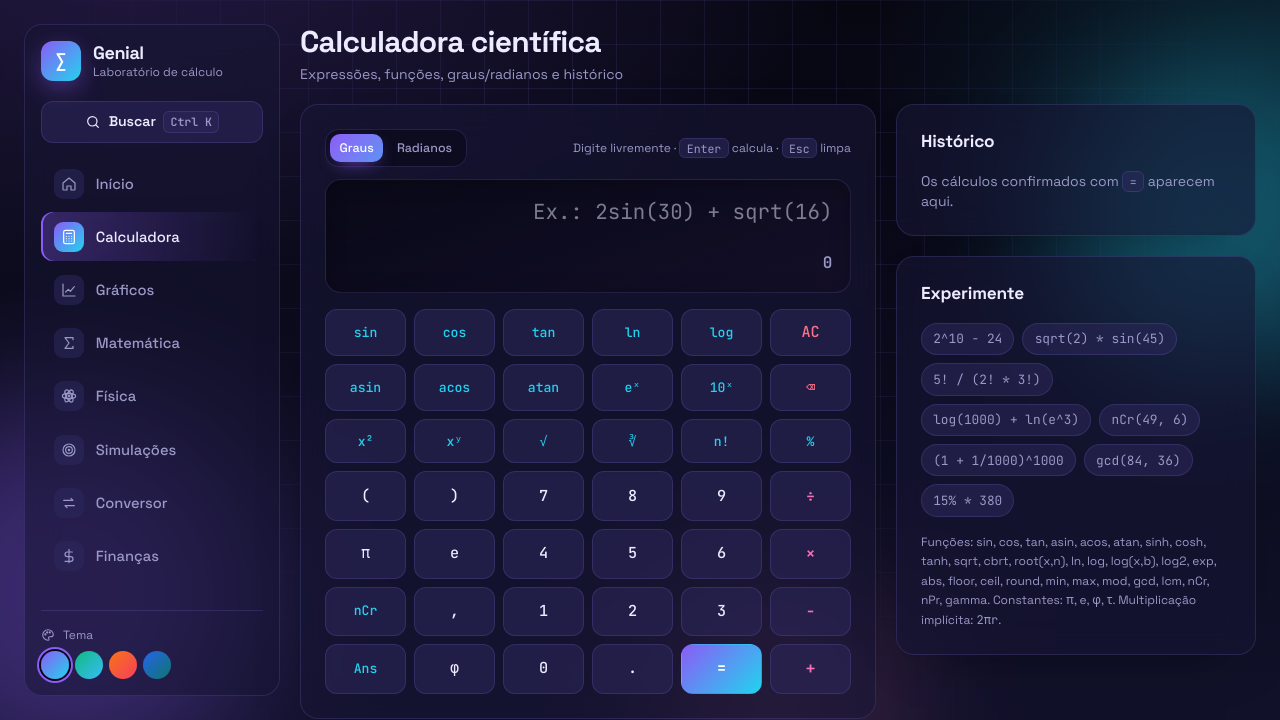
Test: Genial app › scientific calculator evaluates live and saves history
Type "2sin(30)+sqrt(16)" into the field named "Expressão". click: (588, 212)
box: [344,196,832,228]
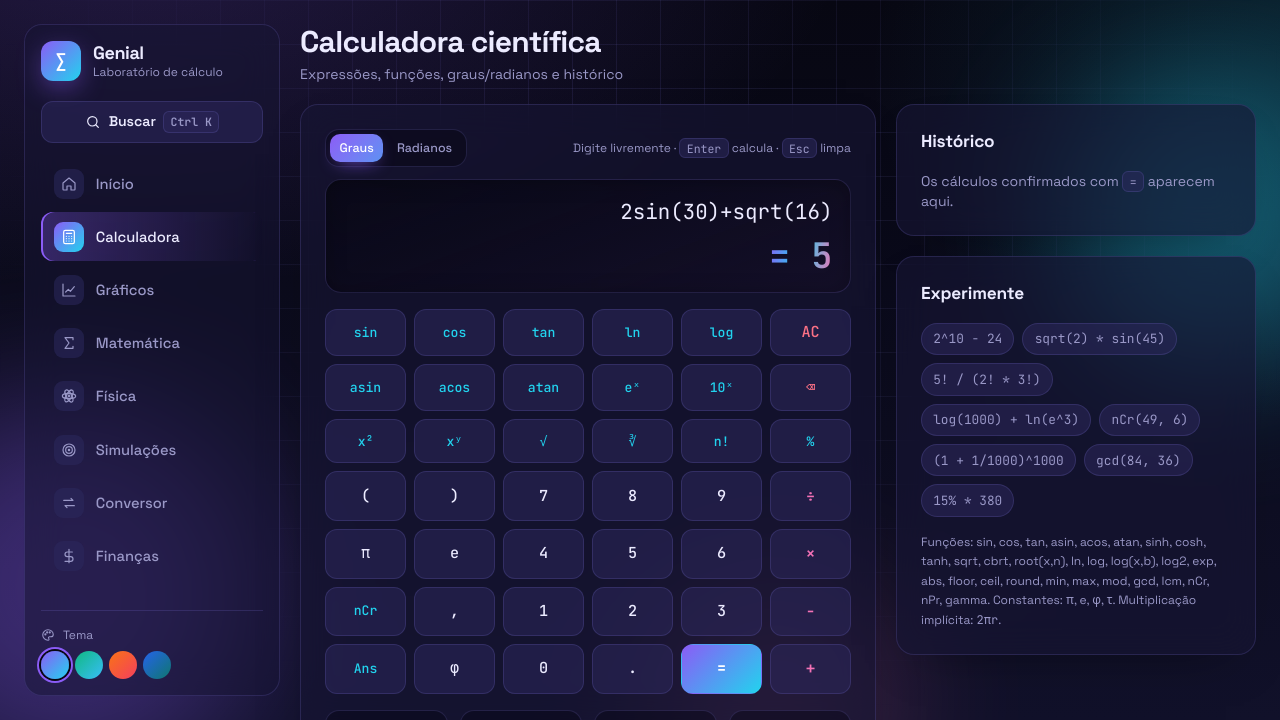
Result: the element with test id "calc-result" reads "= 5" at [769,232,832,278]
Press Enter
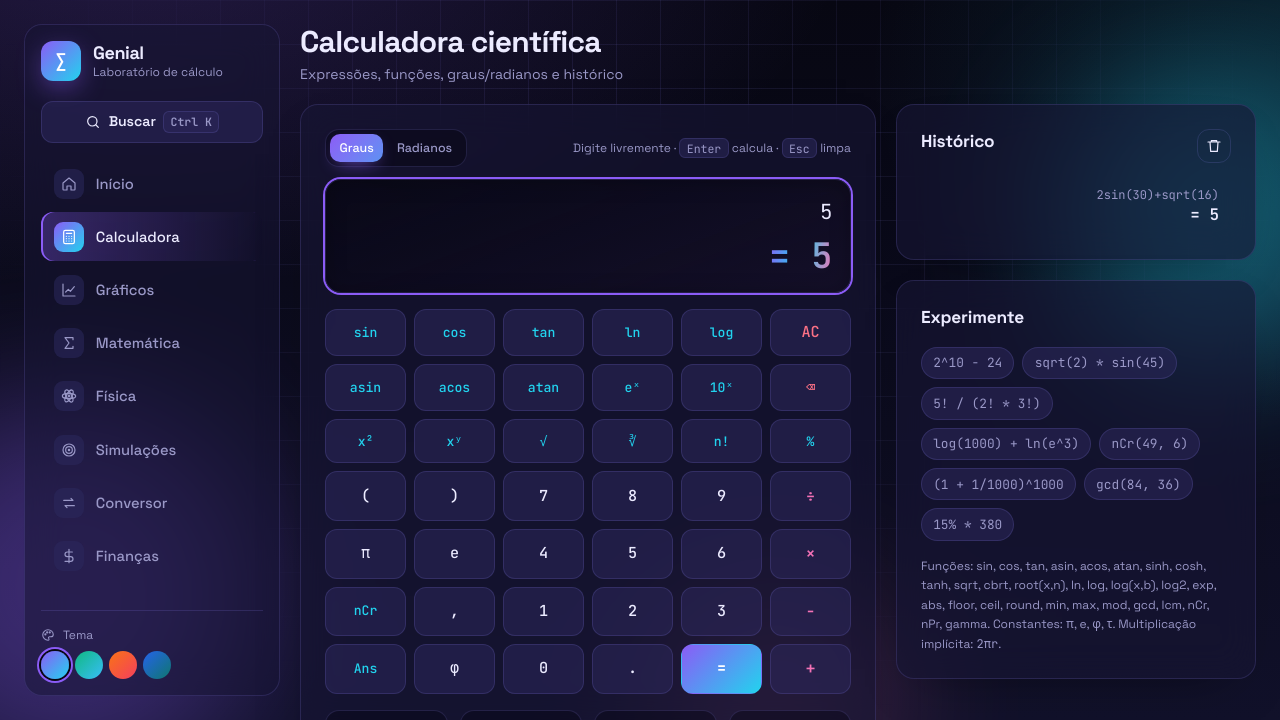
Result: the button titled "Reusar expressão" shows "2sin(30)+sqrt(16)" at [921,179,1231,235]
